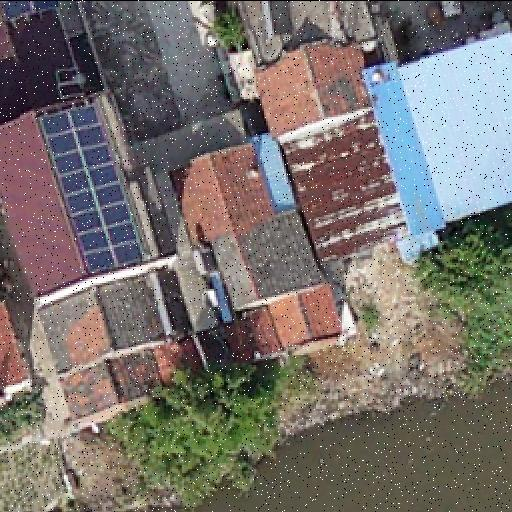solar-panel: (36, 102, 144, 282), (0, 0, 66, 26)
